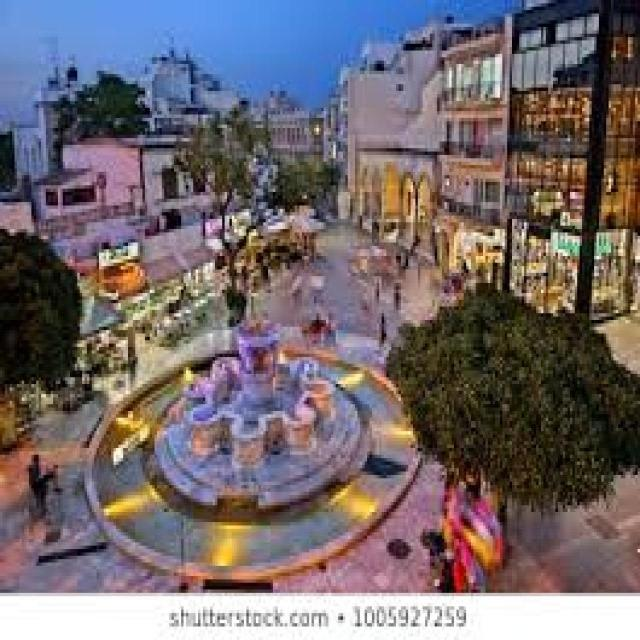Liontaria: (191, 313, 333, 455)
